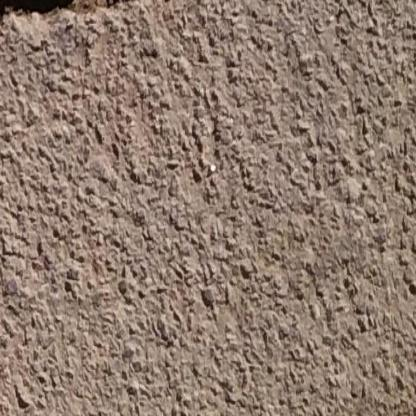Cracks: (0, 0, 127, 36)
